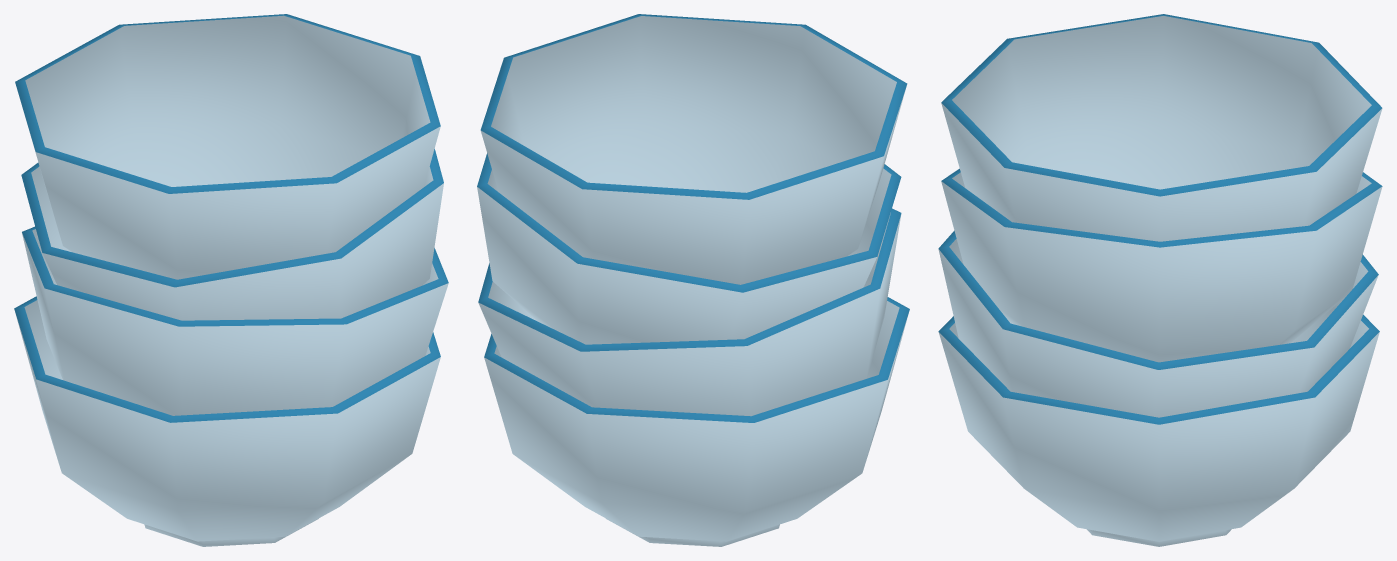
The model's file is BowlStack.glb.
3 views of the same model, side by side, from view 1: azimuth 30°, elevation 25°; view 2: azimuth 150°, elevation 25°; view 3: azimuth 270°, elevation 25° (orthographic).
Parts seen in each view (by area): view 1: BowlStack; view 2: BowlStack; view 3: BowlStack.
Part boxes in pixels (<box>): BowlStack: <box>14,14,448,546</box>; BowlStack: <box>477,14,909,546</box>; BowlStack: <box>938,14,1382,546</box>.
Bounding box in the file's own units: 0.2996 × 0.2999 × 0.2962.
